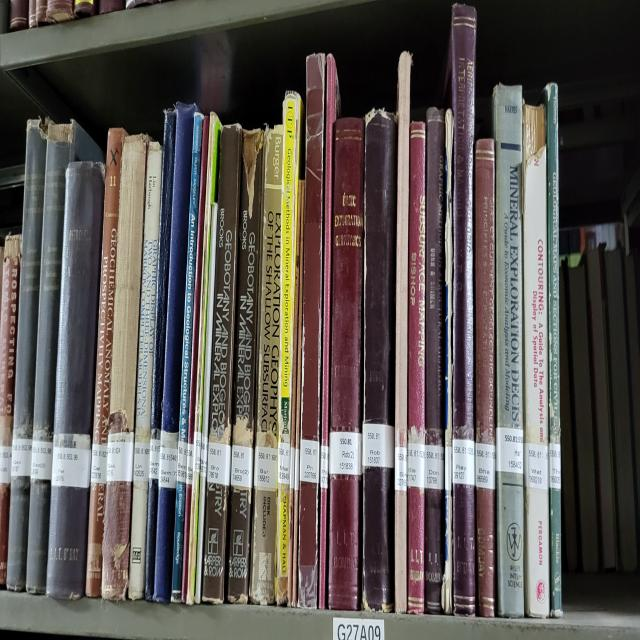Book: (26, 122, 102, 595), (46, 162, 105, 598), (101, 135, 148, 601), (154, 103, 196, 603), (86, 127, 126, 598), (6, 119, 46, 590), (202, 124, 241, 603), (328, 119, 365, 611), (362, 108, 396, 611), (228, 130, 264, 603), (492, 87, 524, 617), (449, 3, 476, 617), (250, 124, 282, 606), (129, 141, 162, 601), (298, 54, 325, 609), (276, 92, 304, 606), (522, 106, 550, 617), (319, 54, 340, 609), (425, 108, 445, 614), (475, 138, 496, 617), (544, 84, 562, 617), (195, 203, 218, 603), (395, 51, 411, 611), (408, 122, 426, 614)
Label: (51, 446, 91, 487), (362, 422, 395, 468), (330, 430, 361, 476), (106, 433, 134, 482), (496, 427, 524, 473), (159, 430, 179, 490), (452, 438, 475, 487), (525, 444, 549, 490), (208, 441, 231, 487), (254, 446, 278, 490), (475, 441, 495, 490), (231, 444, 252, 490), (31, 438, 52, 482), (300, 438, 320, 484), (425, 444, 444, 490), (408, 441, 425, 490), (11, 438, 32, 476), (90, 444, 108, 484), (134, 441, 150, 482), (395, 446, 408, 492), (549, 444, 561, 490), (278, 441, 290, 484), (149, 436, 160, 479), (320, 444, 329, 490), (445, 446, 452, 492), (200, 436, 208, 476)
